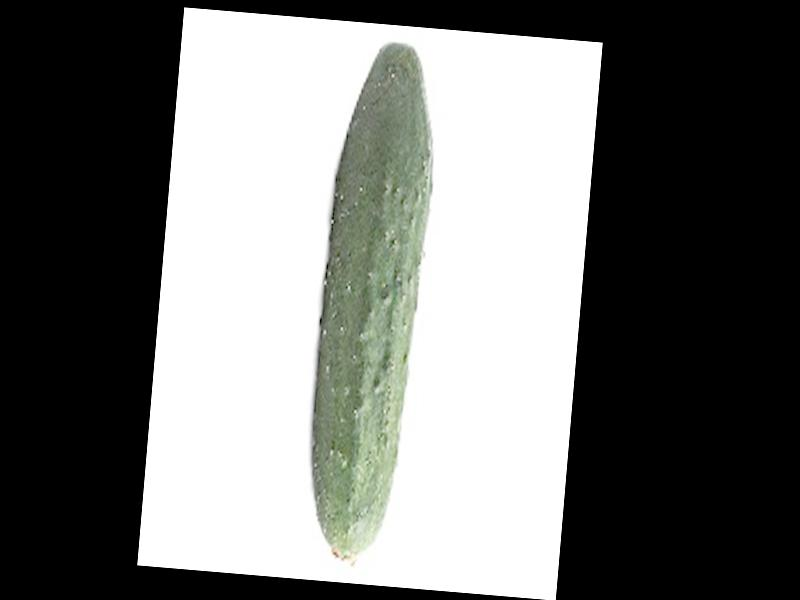Cucumber: (300, 37, 442, 567)
